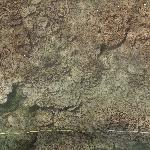dead: (4, 1, 147, 147)
